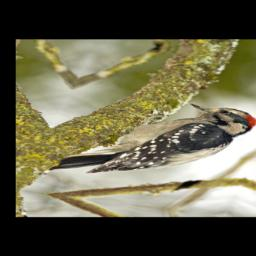Woodpecker: (38, 90, 256, 200)
